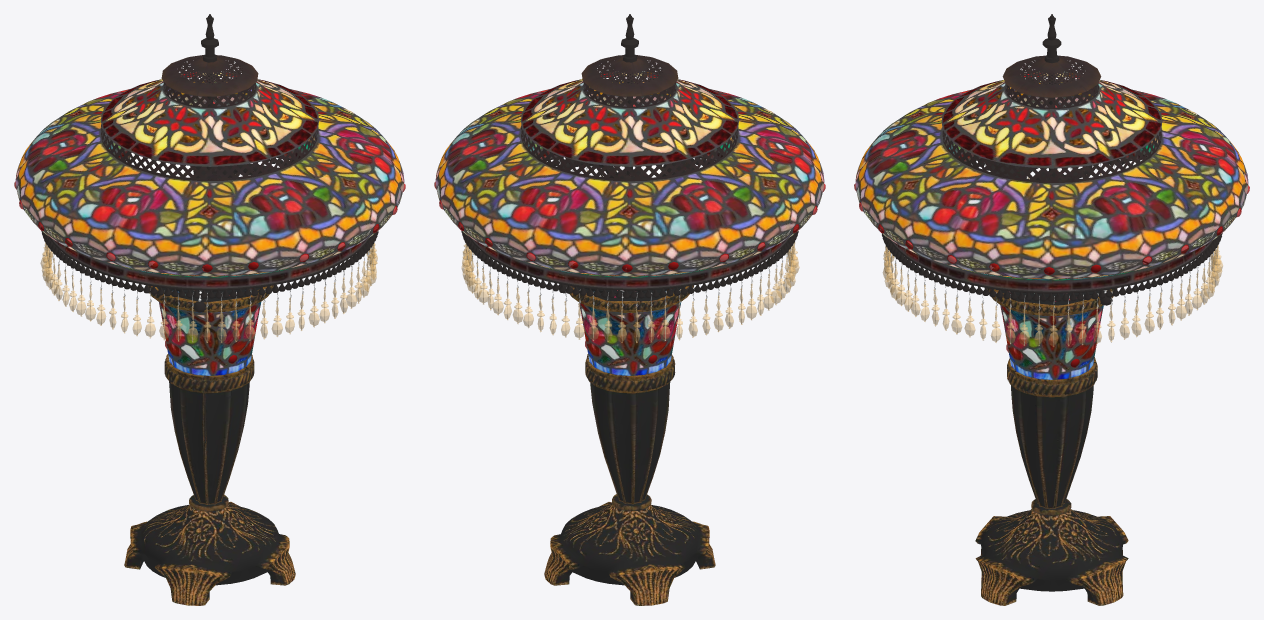
Rendered from stained-glass-lamp.glb.
3 renders of one model, left to right at view 1: azimuth 30°, elevation 25°; view 2: azimuth 150°, elevation 25°; view 3: azimuth 270°, elevation 25°, orthographic.
Parts seen in each view (by area): view 1: stainedglass, base, grill, amberbeads, hardware, steel, redgems; view 2: stainedglass, base, grill, amberbeads, hardware, steel, redgems; view 3: stainedglass, base, grill, amberbeads, hardware, steel, redgems.
Part boxes in pixels (box(x1,y1,x2,y2)): stainedglass: box(15, 71, 404, 375); base: box(124, 263, 295, 605); grill: box(101, 55, 317, 181); amberbeads: box(40, 242, 377, 343); hardware: box(41, 14, 378, 312); steel: box(45, 244, 373, 342); redgems: box(14, 101, 405, 363); stainedglass: box(435, 71, 824, 375); base: box(544, 263, 715, 605); grill: box(521, 55, 737, 181); amberbeads: box(461, 170, 799, 342); hardware: box(461, 14, 798, 298); steel: box(466, 160, 794, 342); redgems: box(434, 104, 825, 363); stainedglass: box(855, 71, 1248, 379); base: box(975, 266, 1128, 605); grill: box(942, 55, 1161, 182); amberbeads: box(882, 170, 1222, 346); hardware: box(882, 14, 1222, 305); steel: box(886, 163, 1217, 345); redgems: box(854, 105, 1249, 367).
Size of the model in its own units: 0.4399 by 0.6889 by 0.4399.
8 materials, 4 textured.
